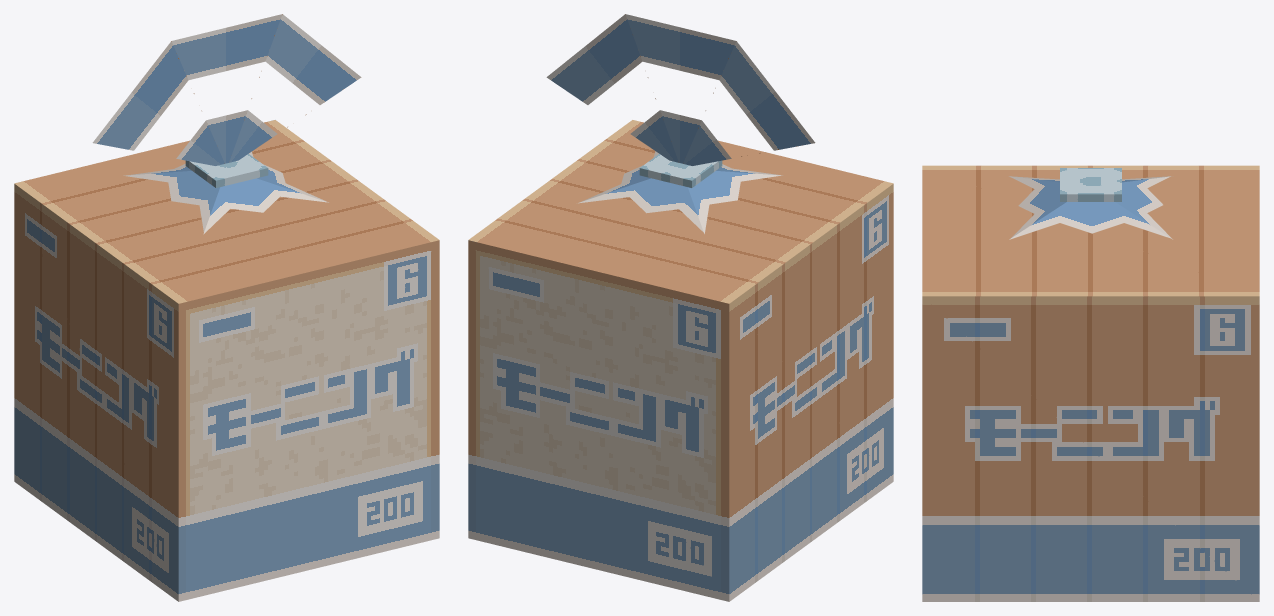
File: 048d_Sliced_Bread.glb
3 renders of one model, left to right at view 1: azimuth 30°, elevation 25°; view 2: azimuth 150°, elevation 25°; view 3: azimuth 270°, elevation 25°, orthographic. The views are drawn at different scales.
Visible parts, largest first — view 1: part_0; view 2: part_0; view 3: part_0.
Boxes of the visible parts, <box> form: part_0: <box>14,14,439,601</box>; part_0: <box>468,14,893,601</box>; part_0: <box>922,165,1259,601</box>.
Bounding box in the file's own units: 0.1134 × 0.1942 × 0.12.
1 material, 1 textured.
